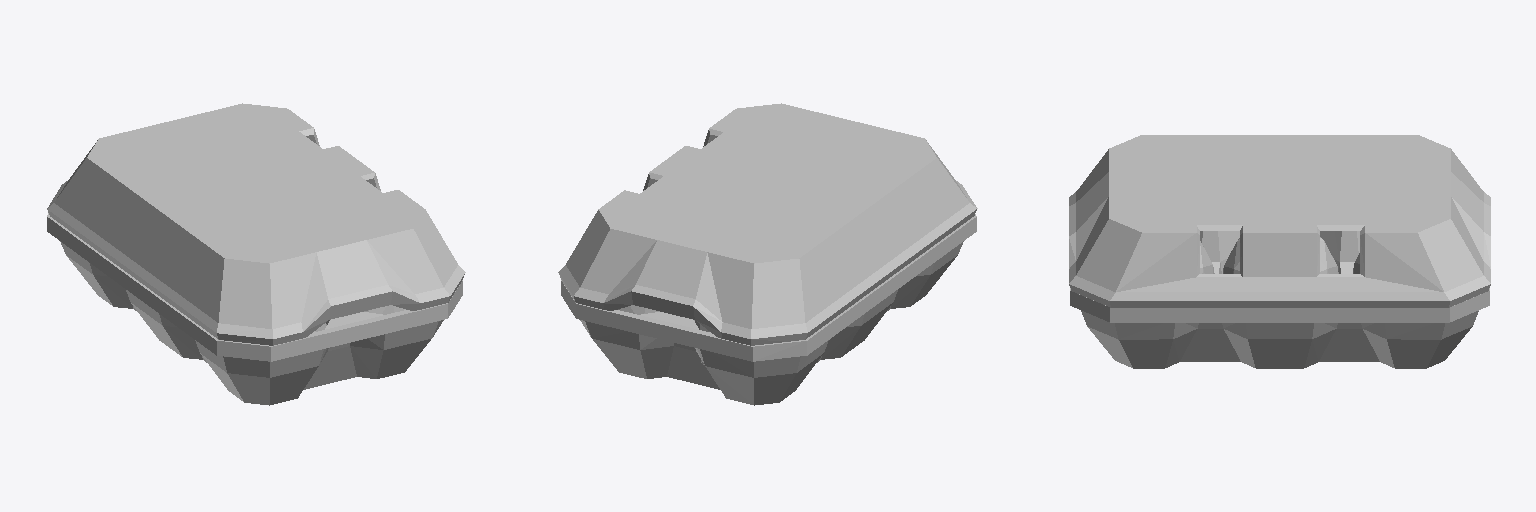
File: Tapa_con_huevos_cerrada.obj
3 views of the same model, side by side, from view 1: azimuth 30°, elevation 25°; view 2: azimuth 150°, elevation 25°; view 3: azimuth 270°, elevation 25° (orthographic).
Parts seen in each view (by area): view 1: polySurface10; view 2: polySurface10; view 3: polySurface10.
Part boxes in pixels (x1,y1,x2,y2): polySurface10: (47, 103, 465, 405); polySurface10: (558, 103, 977, 405); polySurface10: (1069, 135, 1490, 368).
Bounding box in the file's own units: 1.14 × 0.6346 × 1.68.